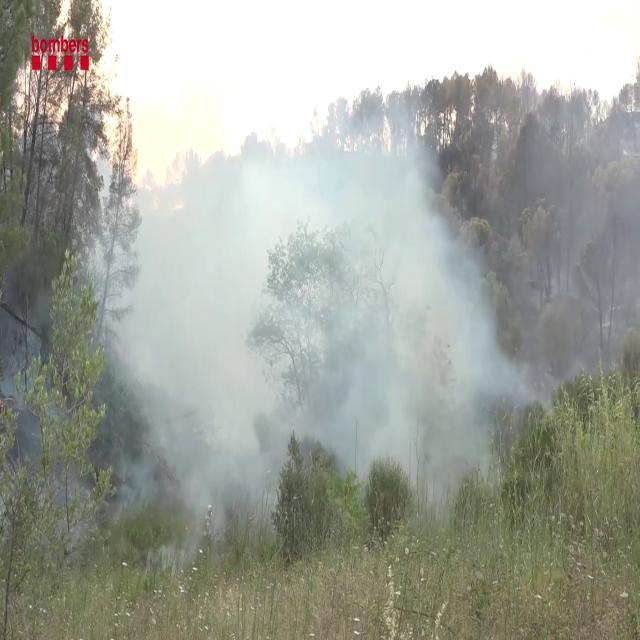Smoke: (92, 15, 526, 542)
